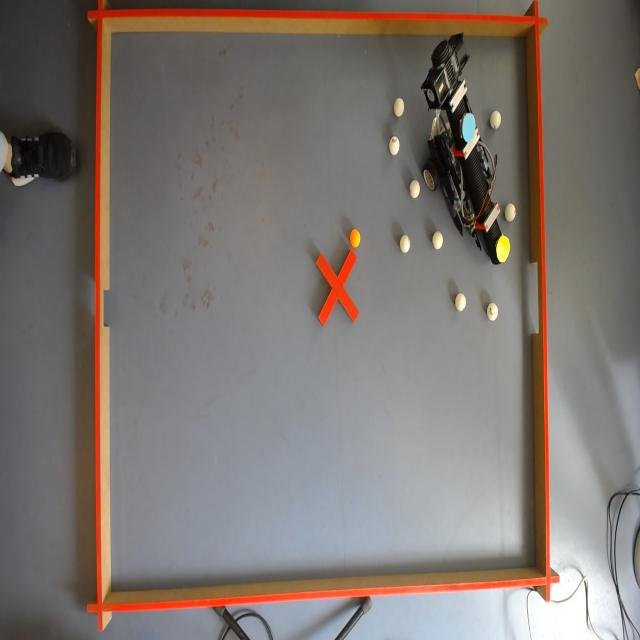orange: (348, 228, 361, 248)
robot: (421, 31, 514, 268)
robot-front: (496, 234, 512, 264)
robot-rear: (458, 111, 478, 142)
white: (486, 302, 499, 322), (393, 97, 406, 117), (399, 234, 411, 254), (389, 136, 400, 156), (455, 294, 467, 312), (409, 180, 420, 198), (433, 233, 445, 249), (505, 204, 516, 221), (490, 112, 500, 130)
